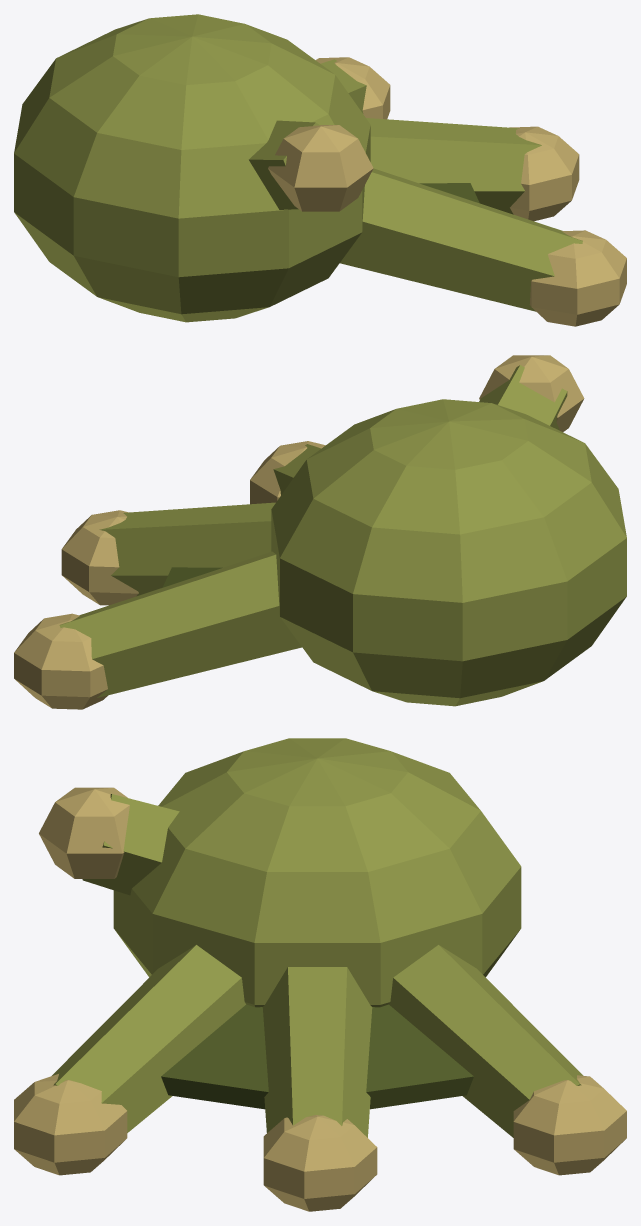
The model's file is pondkin_bloatking_hand_l.glb.
3 views of the same model, one above another, from view 1: azimuth 30°, elevation 25°; view 2: azimuth 150°, elevation 25°; view 3: azimuth 270°, elevation 25° (orthographic). The views are drawn at different scales.
Visible parts, largest first — view 1: pondkin_bloatking_hand_l; view 2: pondkin_bloatking_hand_l; view 3: pondkin_bloatking_hand_l.
Part boxes in pixels (left/top/right/bottom): pondkin_bloatking_hand_l: left=14, top=14, right=626, bottom=326; pondkin_bloatking_hand_l: left=14, top=355, right=626, bottom=709; pondkin_bloatking_hand_l: left=14, top=738, right=626, bottom=1211.
Size of the model in its own units: 0.5551 by 0.264 by 0.5277.
